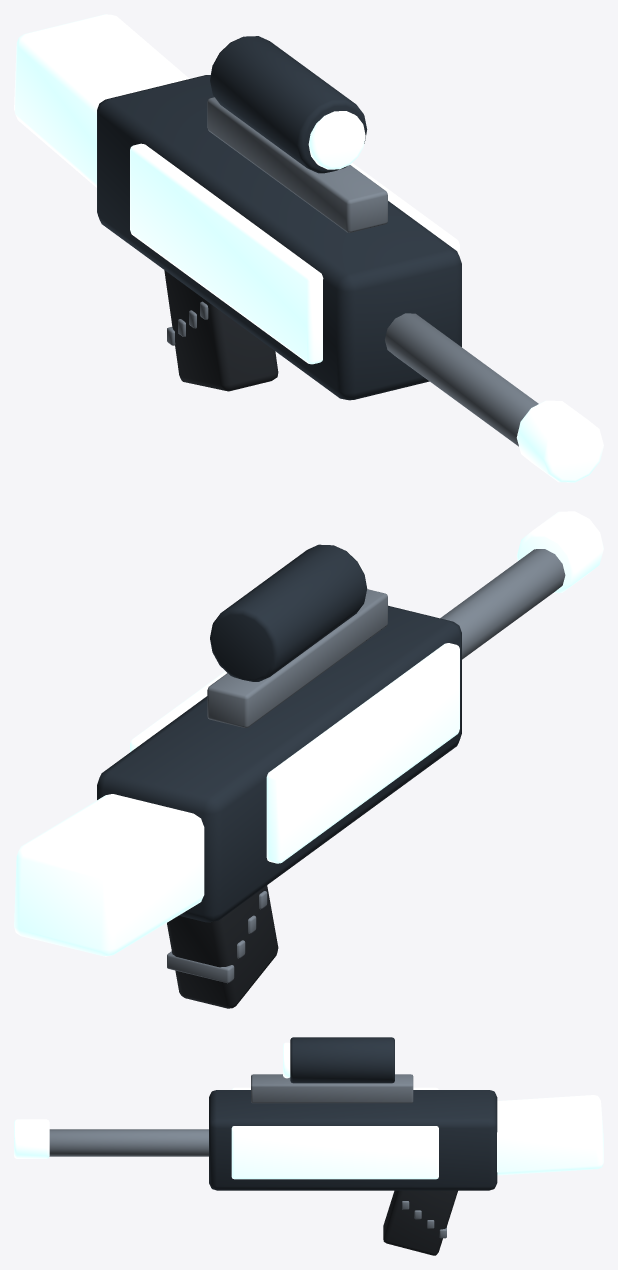
The model's file is Sentinel_BXT1Rifle.fbx.
3 renders of one model, top to bottom at view 1: azimuth 30°, elevation 25°; view 2: azimuth 150°, elevation 25°; view 3: azimuth 270°, elevation 25°, orthographic. The views are drawn at different scales.
Parts seen in each view (by area): view 1: Receiver.003, SideArmorLeft.001, Stock.001, Scope, Barrel_00.001, TopRail.003, Grip.003, MuzzleBrake.001, ScopeLens, SideArmorRight.001; view 2: Receiver.003, Stock.001, SideArmorLeft.001, Scope, Grip.003, TopRail.003, Barrel_00.001, MuzzleBrake.001, SideArmorRight.001, GripRib_03.003; view 3: Receiver.003, SideArmorRight.001, Stock.001, Scope, Barrel_00.001, TopRail.003, Grip.003, MuzzleBrake.001.
Boxes of the visible parts, x1=… form: Receiver.003: x1=97, y1=75, x2=461, y2=400; SideArmorLeft.001: x1=130, y1=143, x2=323, y2=364; Stock.001: x1=14, y1=14, x2=189, y2=187; Scope: x1=210, y1=36, x2=367, y2=173; Barrel_00.001: x1=385, y1=313, x2=538, y2=446; TopRail.003: x1=207, y1=97, x2=387, y2=232; Grip.003: x1=164, y1=270, x2=278, y2=391; MuzzleBrake.001: x1=516, y1=400, x2=603, y2=482; ScopeLens: x1=308, y1=111, x2=365, y2=169; SideArmorRight.001: x1=350, y1=163, x2=459, y2=256; Receiver.003: x1=97, y1=605, x2=461, y2=922; Stock.001: x1=14, y1=794, x2=204, y2=956; SideArmorLeft.001: x1=266, y1=643, x2=459, y2=863; Scope: x1=210, y1=544, x2=367, y2=681; Grip.003: x1=167, y1=885, x2=278, y2=1008; TopRail.003: x1=207, y1=589, x2=387, y2=727; Barrel_00.001: x1=440, y1=549, x2=565, y2=659; MuzzleBrake.001: x1=516, y1=511, x2=603, y2=593; SideArmorRight.001: x1=130, y1=671, x2=226, y2=752; GripRib_03.003: x1=167, y1=951, x2=234, y2=983; Receiver.003: x1=209, y1=1090, x2=497, y2=1190; SideArmorRight.001: x1=231, y1=1126, x2=438, y2=1179; Stock.001: x1=497, y1=1095, x2=603, y2=1175; Scope: x1=290, y1=1037, x2=394, y2=1083; Barrel_00.001: x1=49, y1=1129, x2=208, y2=1156; TopRail.003: x1=251, y1=1074, x2=413, y2=1103; Grip.003: x1=383, y1=1190, x2=457, y2=1255; MuzzleBrake.001: x1=14, y1=1119, x2=49, y2=1158.
Bounding box in the file's own units: 96 × 221 × 563.
